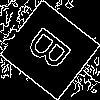B: (25, 25, 81, 79)
